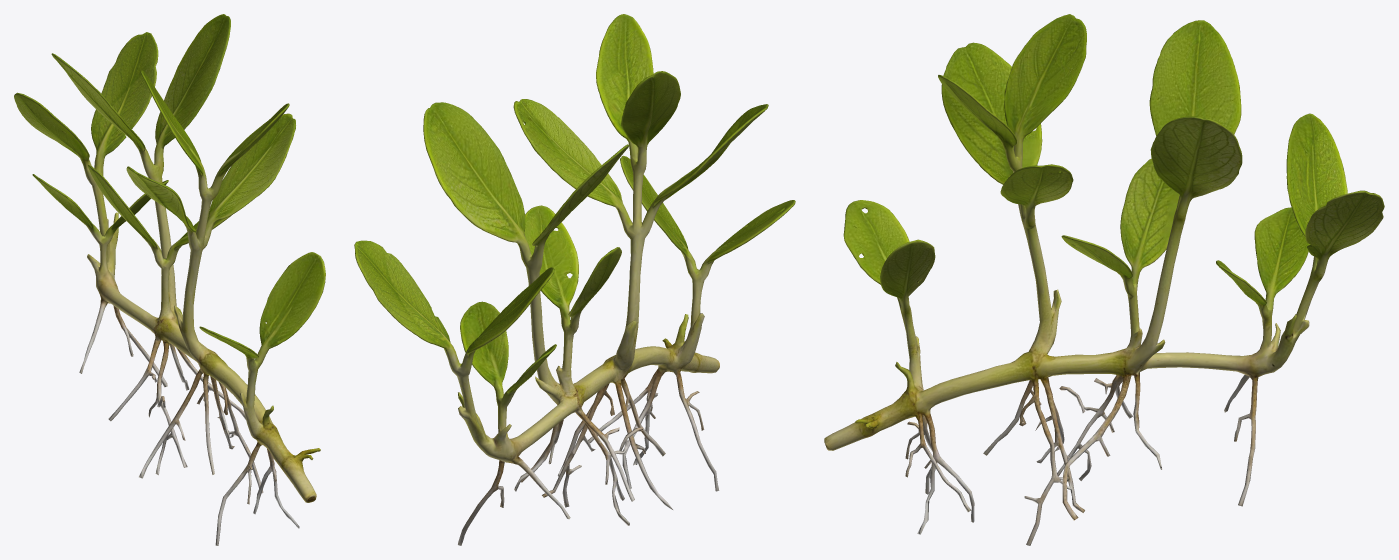
File: seagrass.glb
The picture shows the model from 3 angles, left to right: view 1: azimuth 30°, elevation 25°; view 2: azimuth 150°, elevation 25°; view 3: azimuth 270°, elevation 25°; orthographic projection. The views are drawn at different scales.
Visible parts, largest first — view 1: tripo_node_7bf257b6-c5e4-424e-af18-84e20752c5e0; view 2: tripo_node_7bf257b6-c5e4-424e-af18-84e20752c5e0; view 3: tripo_node_7bf257b6-c5e4-424e-af18-84e20752c5e0.
Boxes of the visible parts, box(x1,y1,x2,y2) form: tripo_node_7bf257b6-c5e4-424e-af18-84e20752c5e0: box(14, 14, 325, 545); tripo_node_7bf257b6-c5e4-424e-af18-84e20752c5e0: box(354, 14, 795, 545); tripo_node_7bf257b6-c5e4-424e-af18-84e20752c5e0: box(824, 14, 1384, 545).
Size of the model in its own units: 0.4565 by 0.939 by 1.
1 material, 1 textured.
